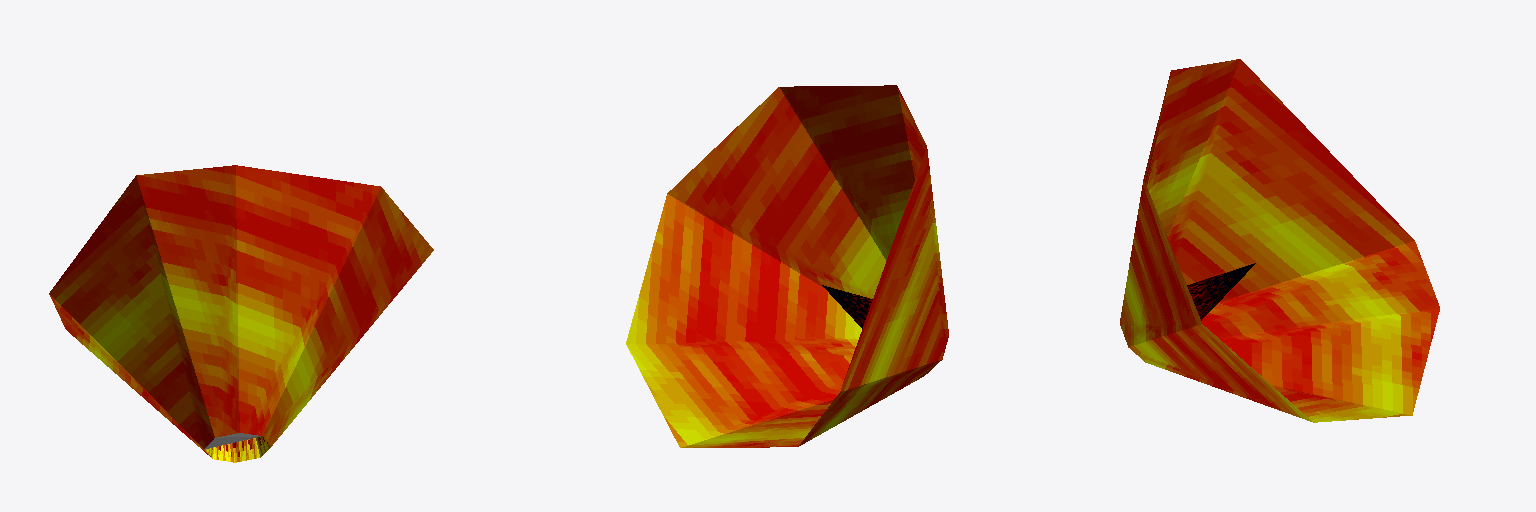
The picture shows the model from 3 angles: view 1: azimuth 30°, elevation 25°; view 2: azimuth 150°, elevation 25°; view 3: azimuth 270°, elevation 25°; orthographic projection.
Visible parts, largest first — view 1: turbo2; view 2: turbo2; view 3: turbo2.
Part boxes in pixels (x1,y1,x2,y2): turbo2: (49, 165, 433, 462); turbo2: (626, 85, 948, 447); turbo2: (1120, 59, 1439, 422).
Size of the model in its own units: 1.25 by 1.27 by 1.24.
Materials: 9 (9 with a texture image).